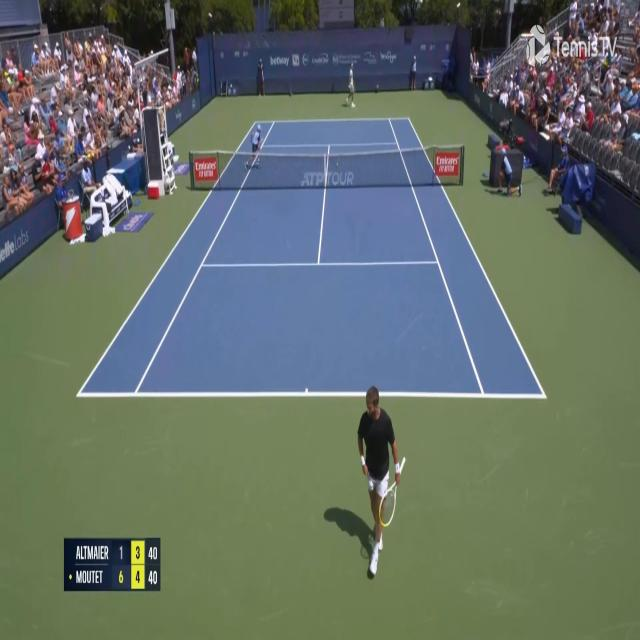tennis-player: (356, 377, 406, 582), (344, 64, 357, 108)
